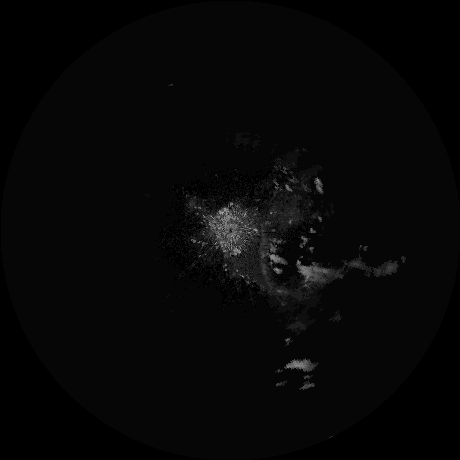frontgust: (260, 224, 272, 287)
